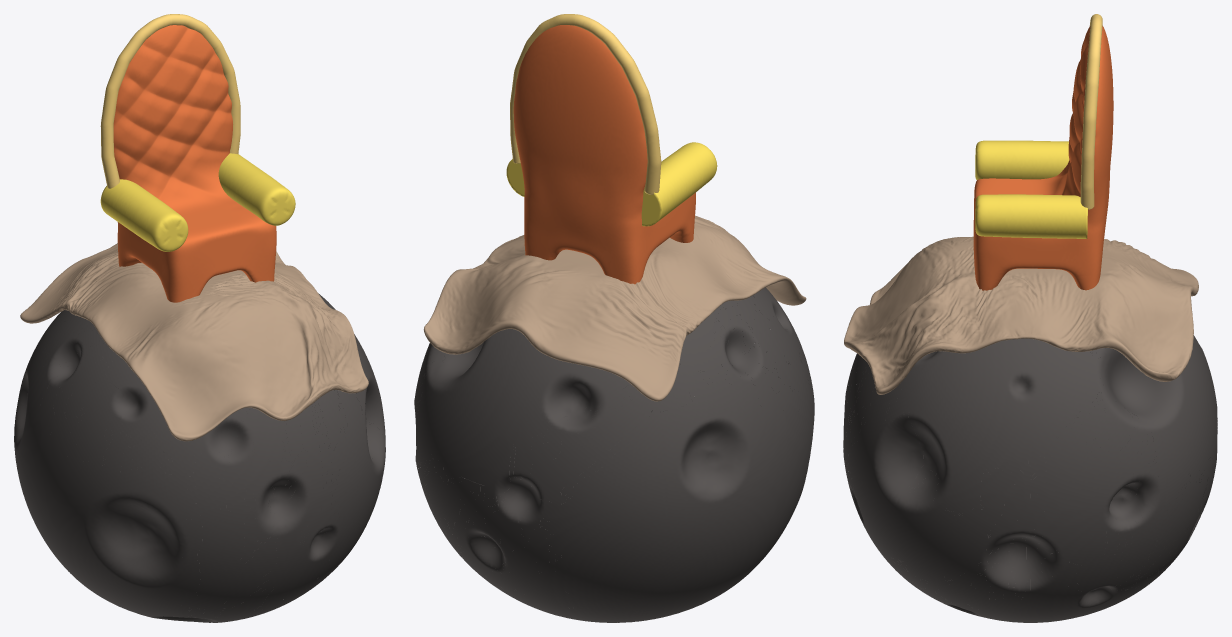
Rendered from planet_325_the_king.glb.
The picture shows the model from 3 angles, left to right: view 1: azimuth 30°, elevation 25°; view 2: azimuth 150°, elevation 25°; view 3: azimuth 270°, elevation 25°; orthographic projection. The views are drawn at different scales.
Visible parts, largest first — view 1: Object_4, Object_2, Object_6, Object_5, Object_3, Object_7; view 2: Object_4, Object_2, Object_6, Object_5, Object_7, Object_3; view 3: Object_5, Object_4, Object_2, Object_6, Object_3, Object_7.
Boxes of the visible parts, x1=… form: Object_4: x1=14, y1=310, x2=385, y2=622; Object_2: x1=20, y1=243, x2=368, y2=441; Object_6: x1=113, y1=25, x2=276, y2=302; Object_5: x1=35, y1=293, x2=385, y2=622; Object_3: x1=100, y1=153, x2=295, y2=251; Object_7: x1=100, y1=14, x2=240, y2=188; Object_4: x1=414, y1=295, x2=814, y2=622; Object_2: x1=423, y1=215, x2=806, y2=401; Object_6: x1=513, y1=25, x2=695, y2=284; Object_5: x1=415, y1=287, x2=810, y2=614; Object_7: x1=510, y1=14, x2=661, y2=194; Object_3: x1=506, y1=142, x2=717, y2=226; Object_5: x1=843, y1=335, x2=1217, y2=613; Object_4: x1=843, y1=348, x2=1217, y2=622; Object_2: x1=844, y1=236, x2=1198, y2=394; Object_6: x1=973, y1=26, x2=1113, y2=290; Object_3: x1=975, y1=140, x2=1087, y2=238; Object_7: x1=1080, y1=14, x2=1102, y2=209.
Bounding box in the file's own units: 0.8395 × 1.44 × 0.8354.
